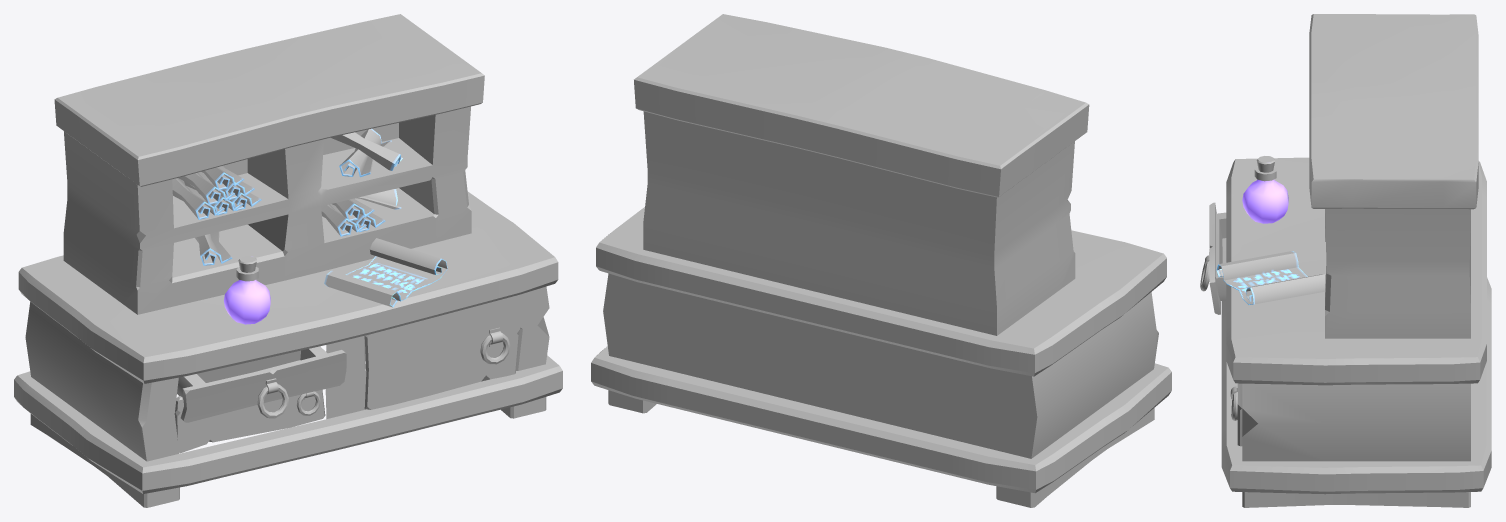
Rendered from SHELF.fbx.
3 renders of one model, left to right at view 1: azimuth 30°, elevation 25°; view 2: azimuth 150°, elevation 25°; view 3: azimuth 270°, elevation 25°, orthographic. The views are drawn at different scales.
Visible parts, largest first — view 1: Scroll Shelf 4.0, Scroll Shelf Drawer, Scrolls, Scrolls.001, Potion, Scrolls.003, Scrolls.002, Scrolls.004; view 2: Scroll Shelf 4.0; view 3: Scroll Shelf 4.0, Scrolls, Scroll Shelf Drawer, Potion.
Part boxes in pixels (x1,y1,x2,y2): Scroll Shelf 4.0: [14, 14, 562, 507]; Scroll Shelf Drawer: [174, 295, 520, 453]; Scrolls: [324, 238, 447, 307]; Scrolls.001: [172, 166, 261, 219]; Potion: [224, 255, 270, 324]; Scrolls.003: [321, 189, 401, 236]; Scrolls.002: [331, 128, 402, 177]; Scrolls.004: [195, 231, 232, 265]; Scroll Shelf 4.0: [591, 14, 1171, 507]; Scroll Shelf 4.0: [1221, 14, 1491, 507]; Scrolls: [1216, 251, 1324, 304]; Scroll Shelf Drawer: [1200, 202, 1242, 446]; Potion: [1242, 156, 1288, 223].
Size of the model in its own units: 434 by 307 by 255.
